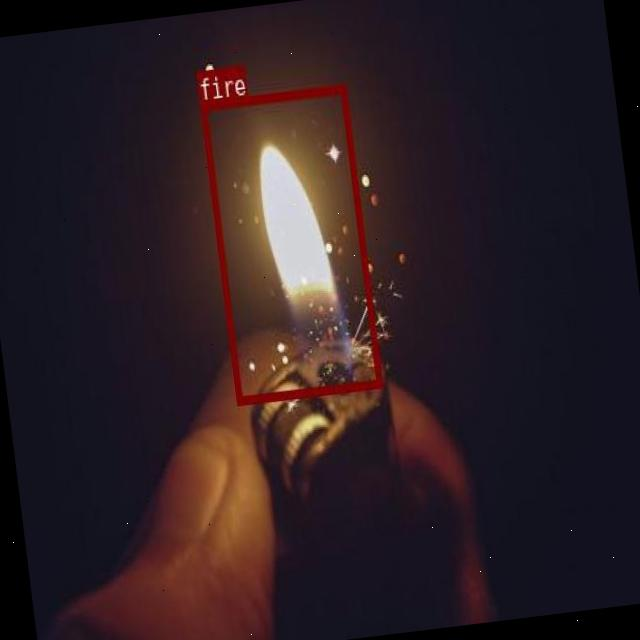fire: (200, 83, 382, 403)
